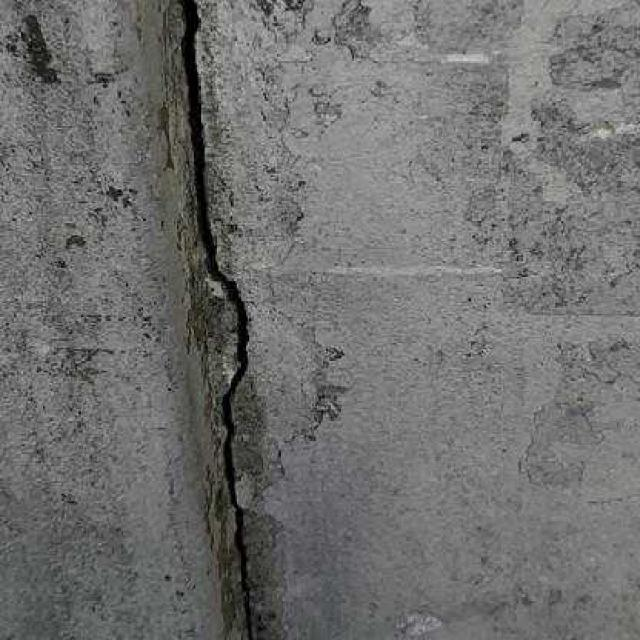D00: (177, 0, 252, 640)
